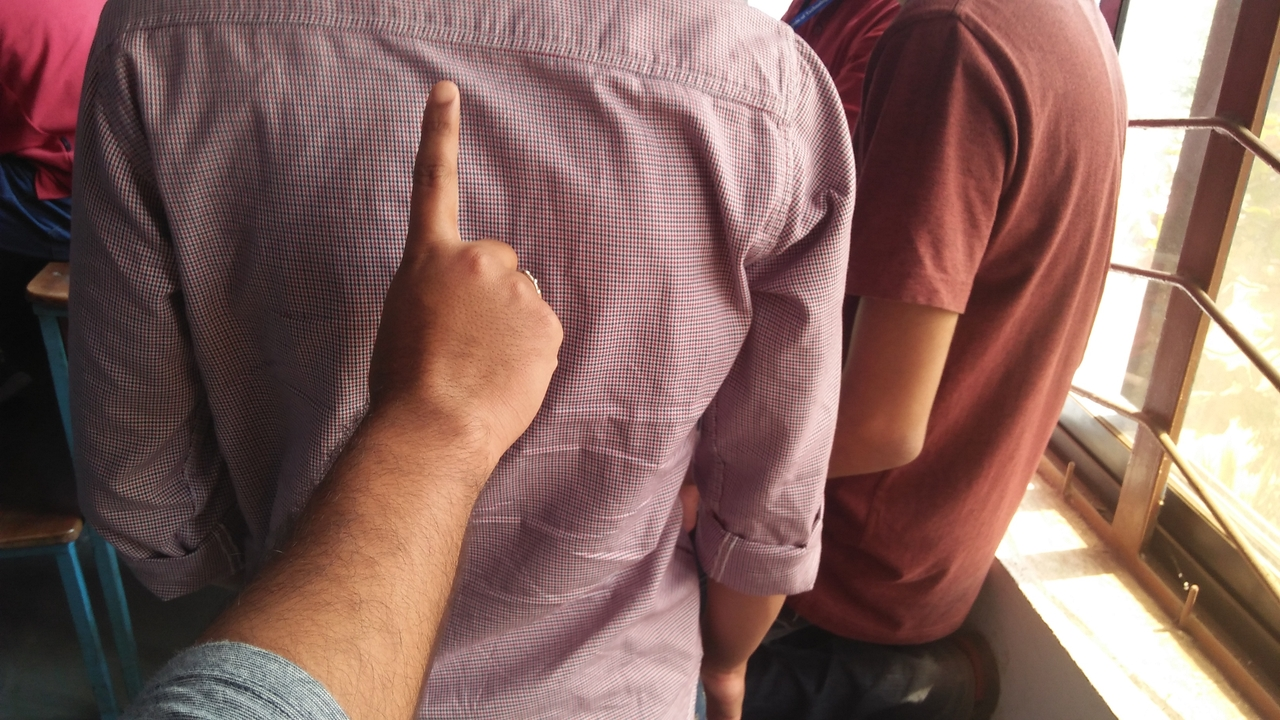fingertip: (416, 72, 464, 116)
